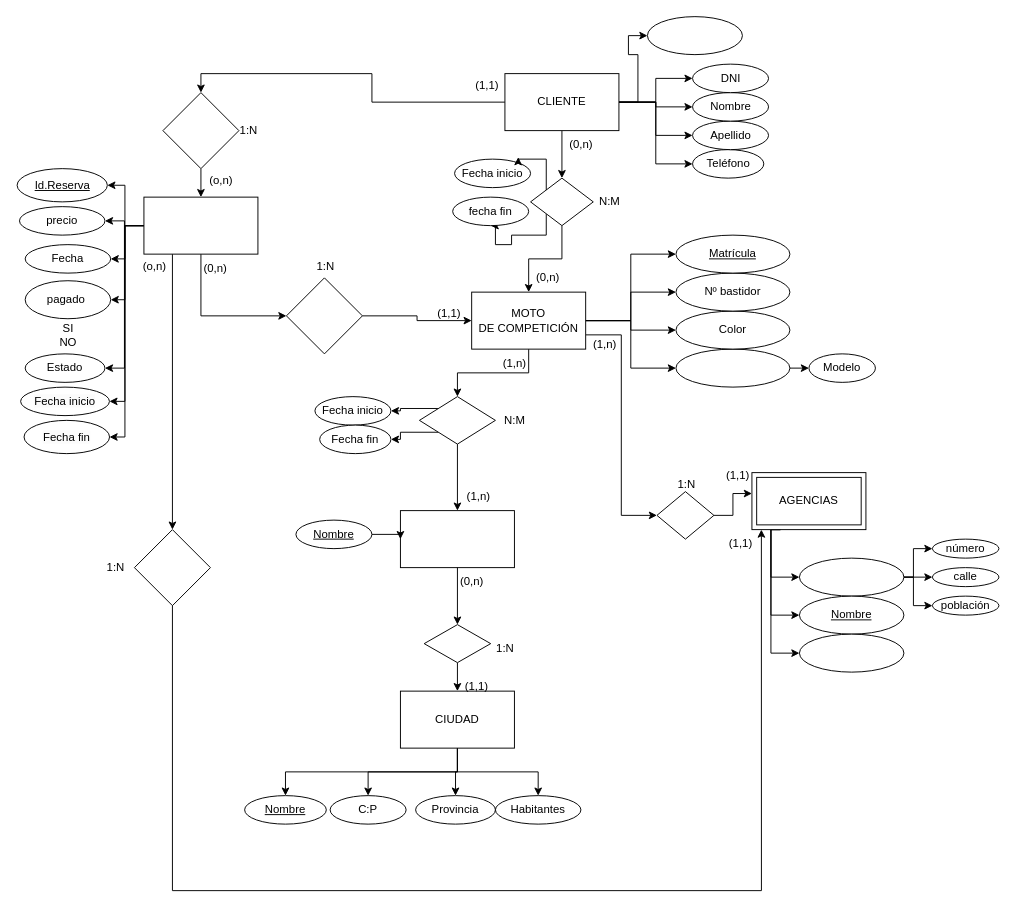
The diagram is 1016 pixels wide and 915 high, and some of its shapes have lost their labels. Here are the shapes that lost their labels. From the top down, the centre of each, then its label:
the point at 694,35: Cod.Cliente
the point at 200,130: hace
the point at 561,201: Alquila
the point at 200,225: RESERVA
the point at 323,315: es de
the point at 732,367: Marca
the point at 456,420: se guardan
the point at 685,515: se asigna
the point at 456,539: GARAJE
the point at 171,567: pertenece
the point at 851,576: Dirección
the point at 457,643: están
the point at 851,652: Teléfonos
